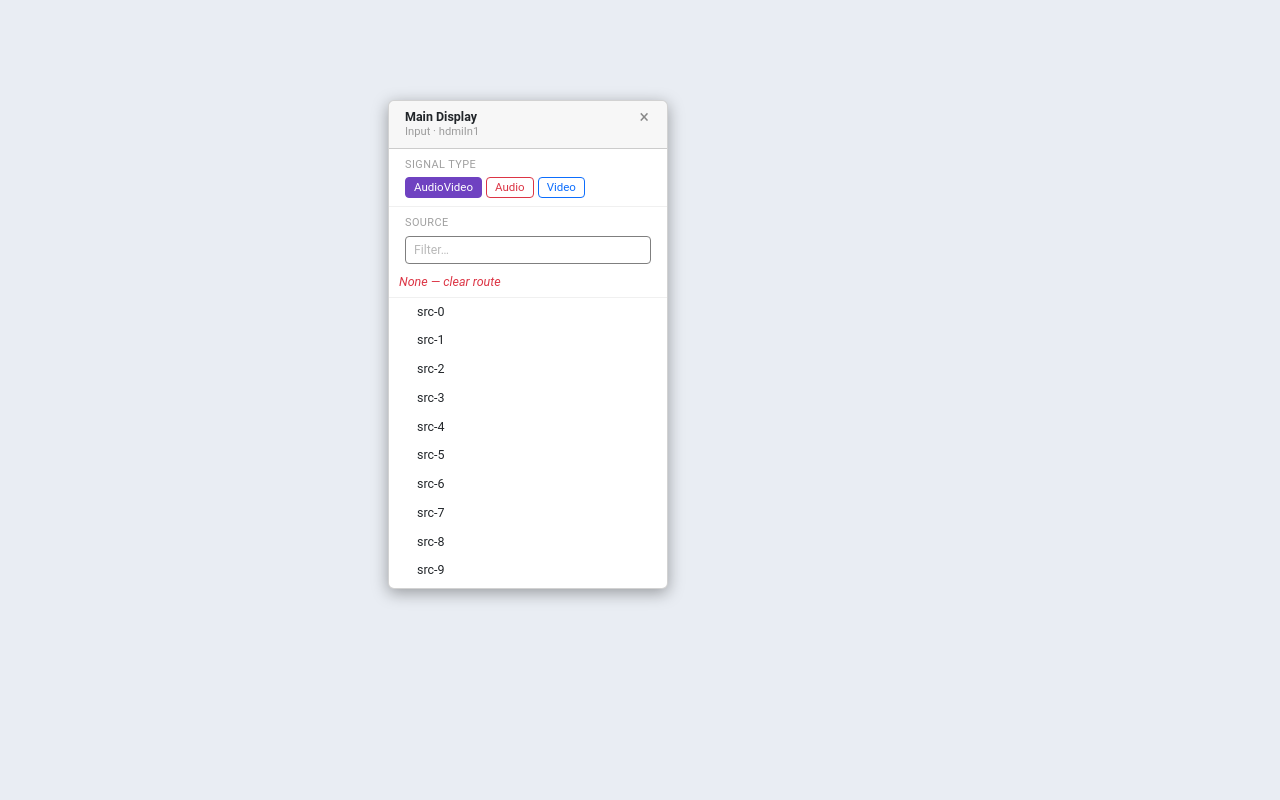
Test case: filtering › narrows a long list
This screenshot has width=1280, height=800.
In the field named "Filter options": (528, 250) [405,236,651,264], type "src-19"
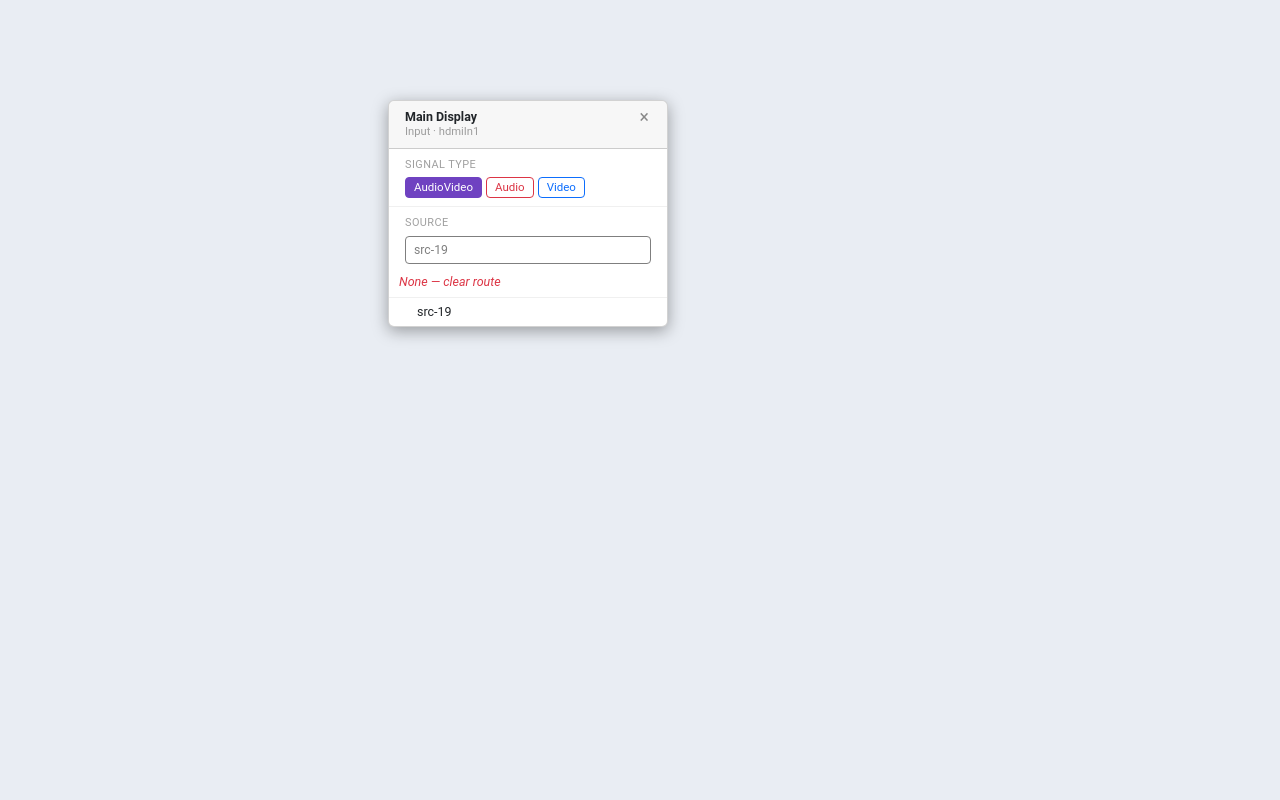
Expected: the button "src-19" is shown, [389,298,667,326]
